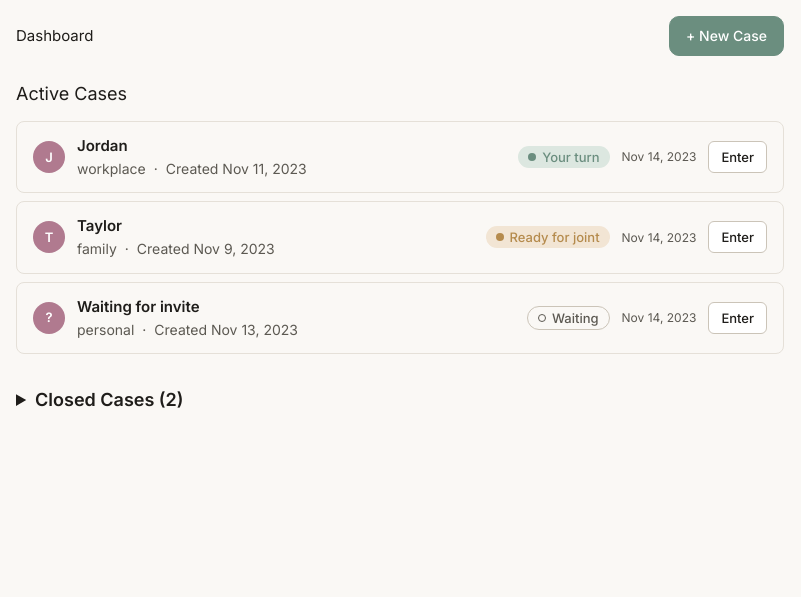
Test: AC: Closed Cases section collapsed by default › expanding the Closed Cases section reveals closed cases
Click the disclosure toggle to expand
Click the heading "Closed Cases (2)" at (109, 400), box [35,389,184,410]
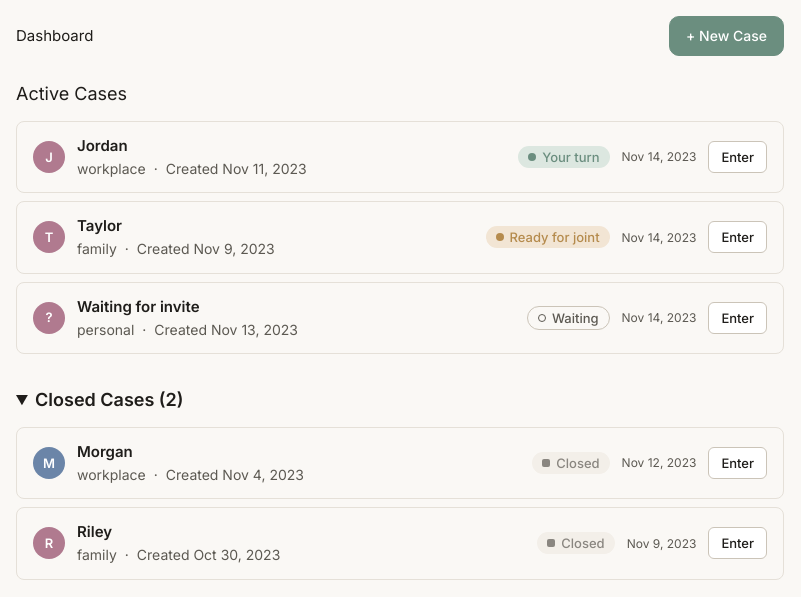
Expected: the text "Morgan" is shown, [77,440,133,464]
Expected: the text "Riley" is shown, [77,520,112,544]
